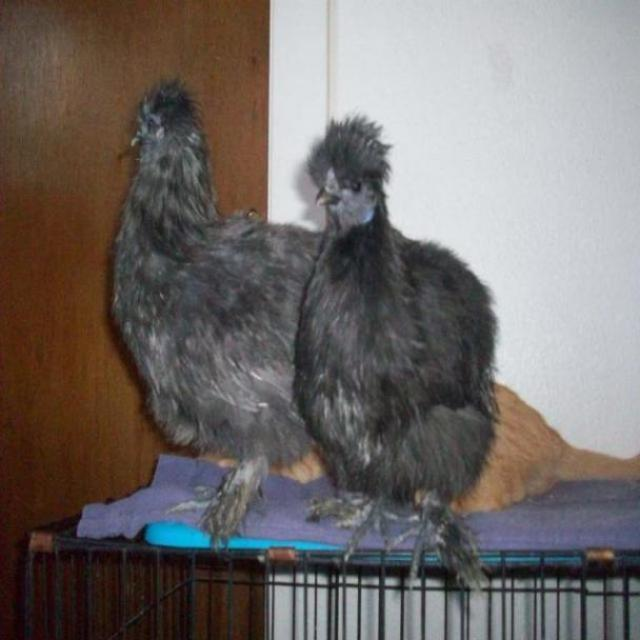Chicken: (108, 75, 328, 558), (284, 117, 492, 585)
